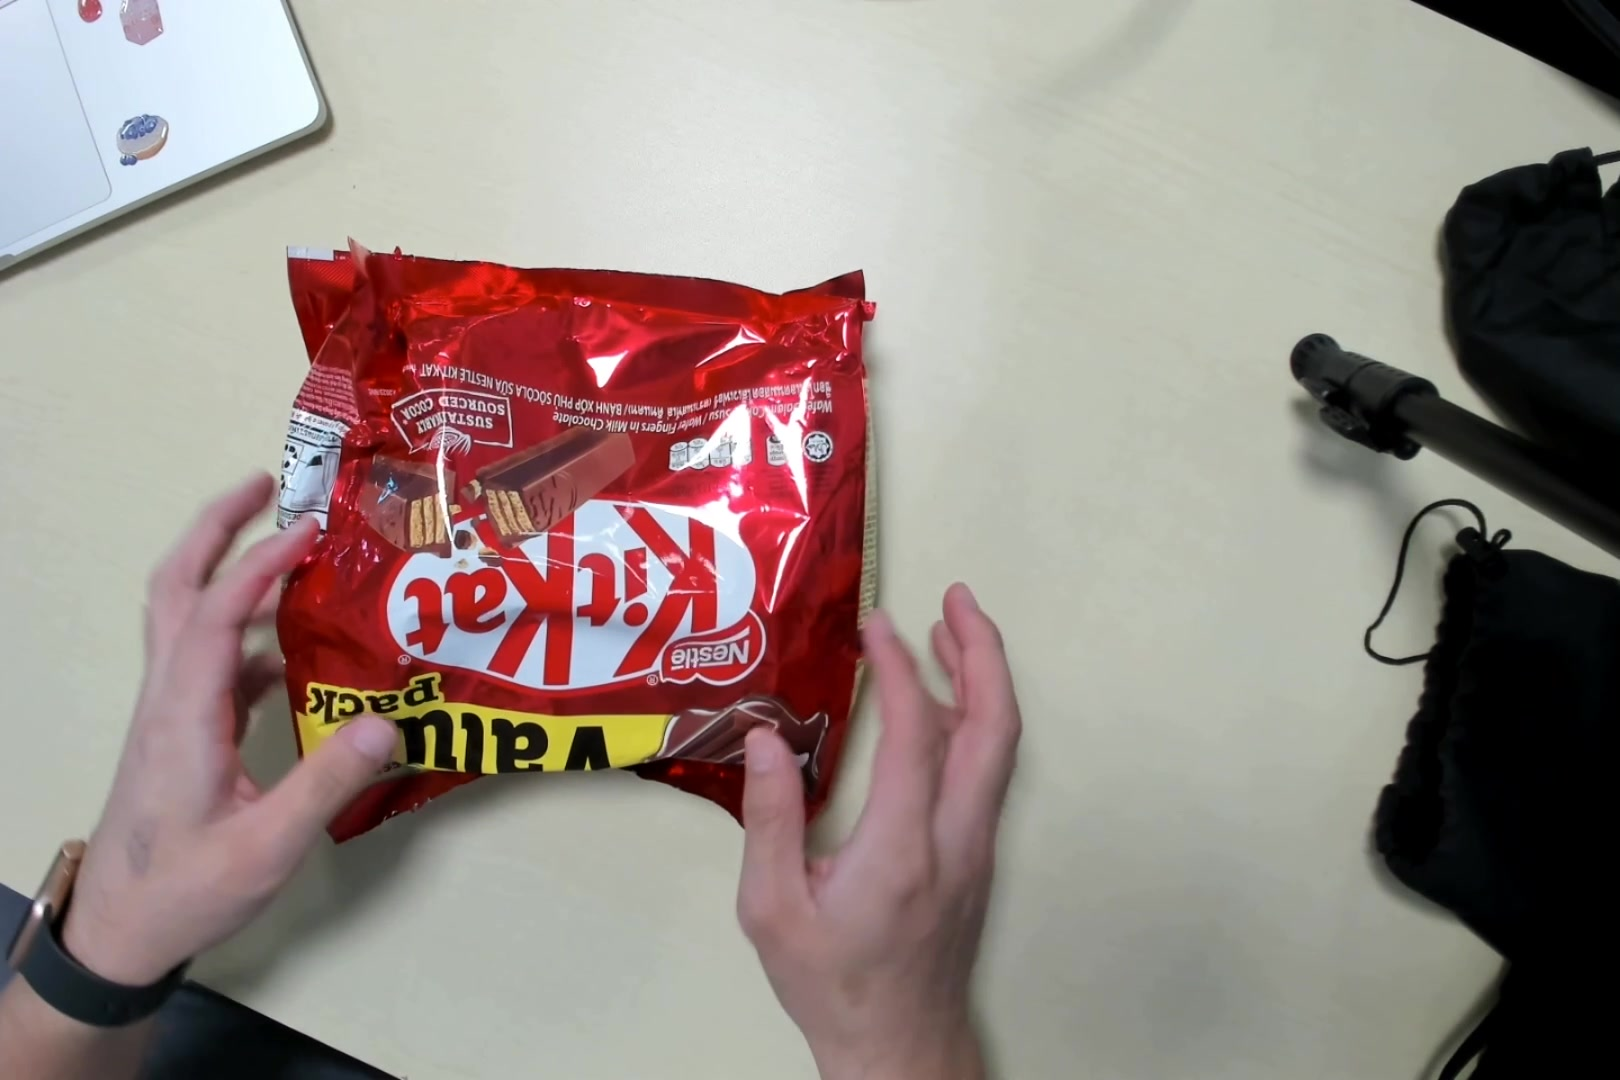SweetsChocolatesOthers_400-499g_Halal_NonHealthy: (272, 250, 871, 818)
